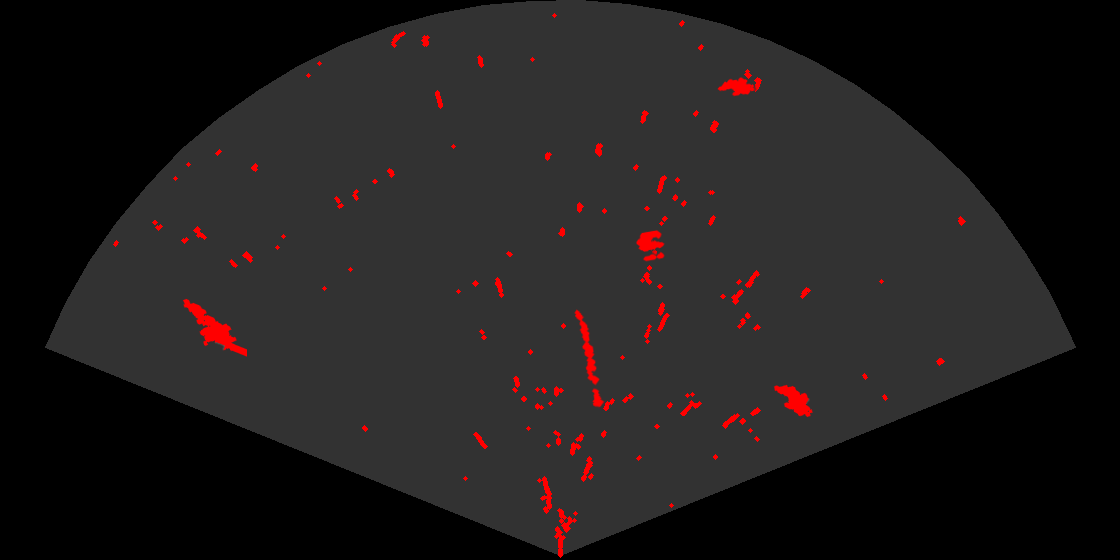AUV: (773, 383, 814, 419), (716, 75, 757, 98)
ball: (635, 228, 666, 263)
chain: (573, 308, 606, 409)
frogman: (181, 297, 247, 358)
